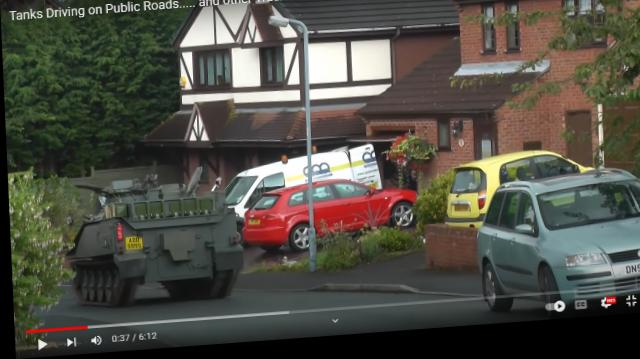tank: (74, 184, 237, 308)
